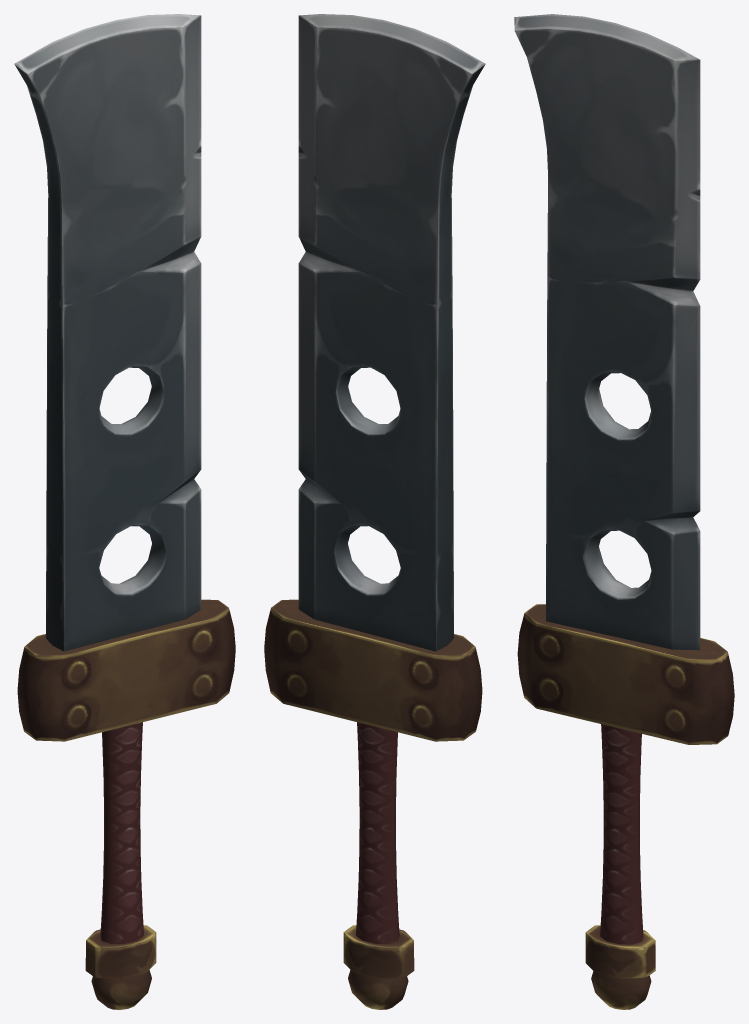
File: Sword_4_Short.FBX
The picture shows the model from 3 angles, left to right: view 1: azimuth 30°, elevation 25°; view 2: azimuth 150°, elevation 25°; view 3: azimuth 330°, elevation 25°; orthographic projection.
Visible parts, largest first — view 1: Sword_4_Short; view 2: Sword_4_Short; view 3: Sword_4_Short.
Boxes of the visible parts, x1,y1,x2,y2 form: Sword_4_Short: [14, 14, 235, 1009]; Sword_4_Short: [264, 14, 485, 1009]; Sword_4_Short: [514, 14, 734, 1009].
Size of the model in its own units: 26.26 by 5.98 by 115.
